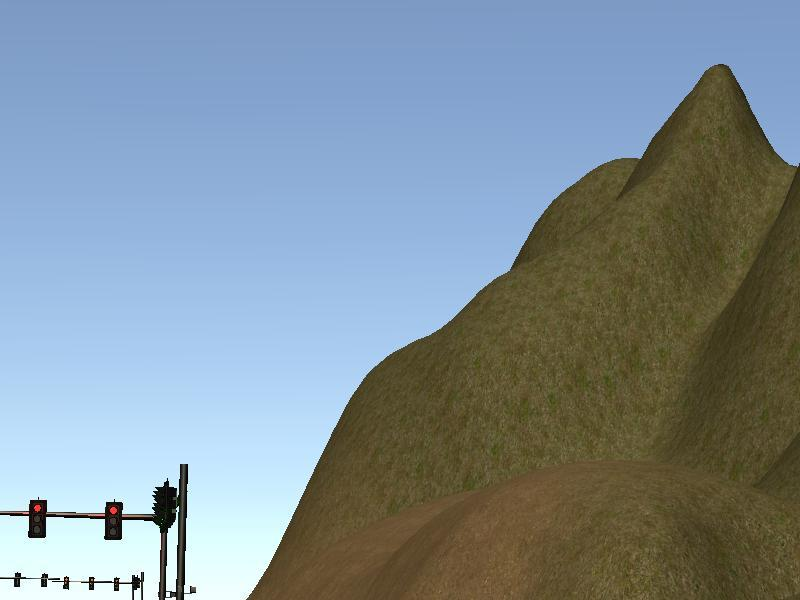Red: (105, 501, 123, 540), (30, 499, 46, 536)
